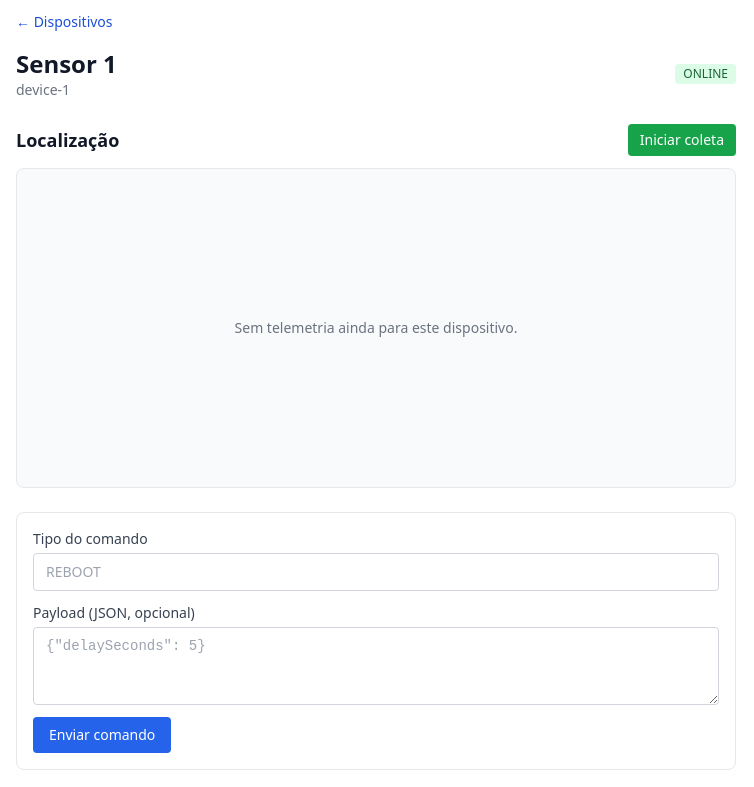
DeviceDetailPage › sends START_TELEMETRY and flips to "Parar coleta" when starting collection
Check: the heading "Sensor 1" is shown, box x1=16 y1=48 x2=117 y2=80
Click the button "Iniciar coleta": x=682, y=140 x1=628 y1=124 x2=736 y2=156
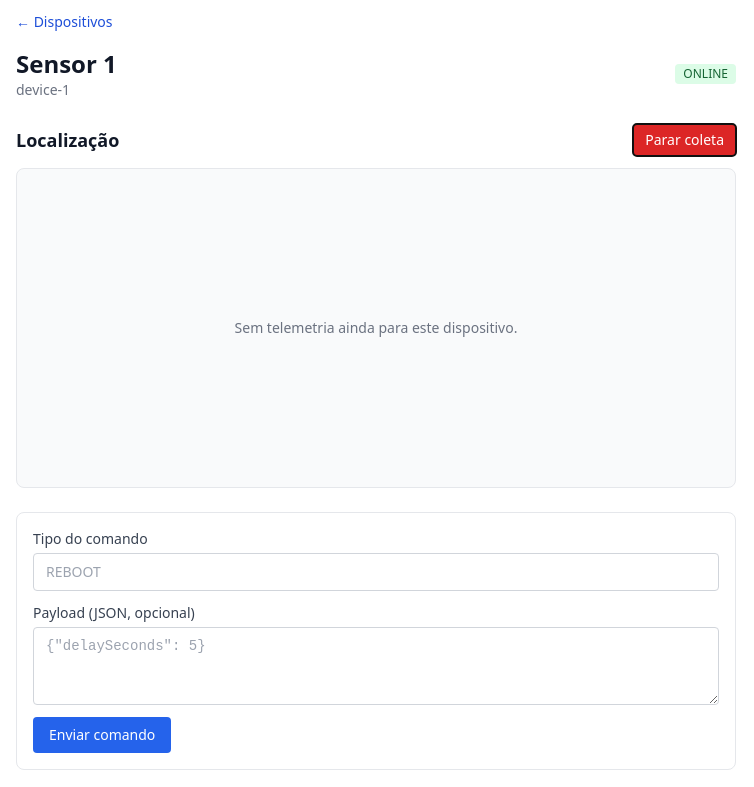
Check: the button "Parar coleta" is shown, box x1=633 y1=124 x2=736 y2=156
